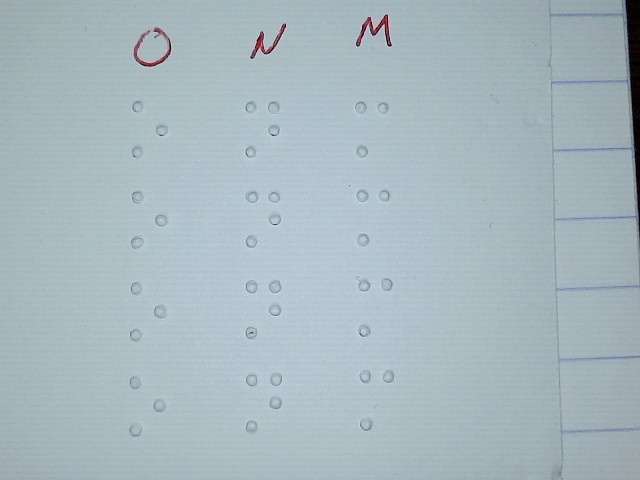M: (356, 275, 393, 336), (359, 369, 396, 430), (353, 99, 390, 157), (355, 187, 392, 245)
N: (243, 99, 282, 158), (244, 189, 283, 248), (246, 278, 282, 341), (246, 370, 282, 433)
O: (129, 188, 169, 248), (128, 280, 168, 340), (127, 375, 167, 435), (130, 99, 169, 158)
